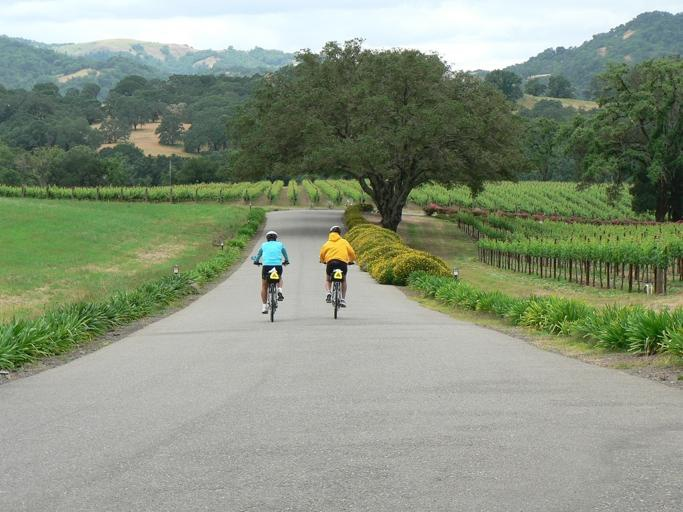non-vehicle: (254, 261, 289, 321), (320, 260, 354, 319)
